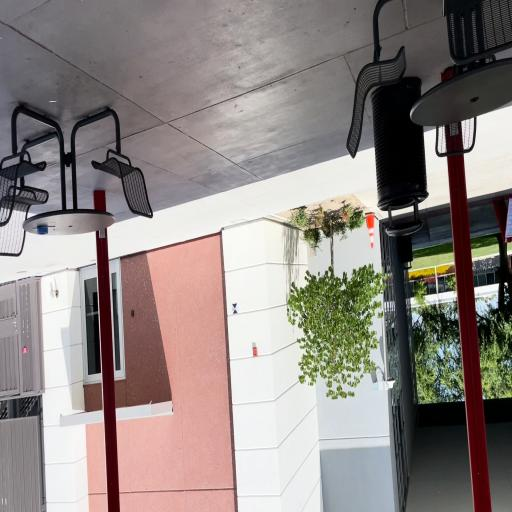target9: (232, 304, 238, 314)
